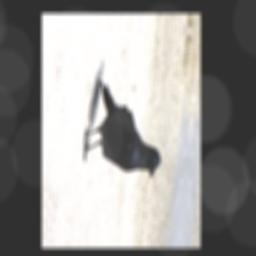Crow: (79, 76, 169, 181)
